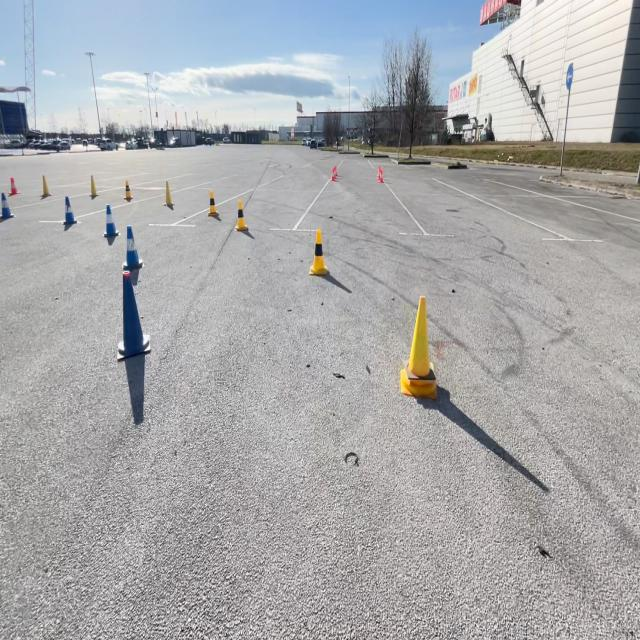blue_cone: (604, 0, 640, 145), (116, 272, 152, 364), (123, 224, 143, 283), (102, 203, 118, 240), (62, 194, 78, 226), (0, 191, 14, 220)
orange_cone: (8, 176, 18, 196), (376, 165, 384, 182), (330, 165, 338, 180)
yellow_cone: (398, 294, 436, 397), (307, 227, 329, 276), (232, 198, 248, 232), (206, 188, 220, 217), (163, 179, 174, 209), (88, 172, 99, 198), (40, 174, 51, 198), (123, 177, 133, 200)
